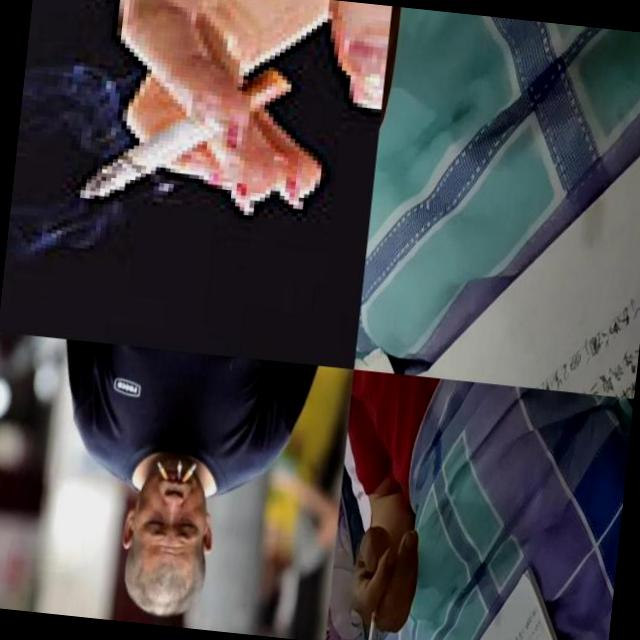smoke: (73, 48, 294, 221), (367, 594, 380, 640), (182, 461, 197, 484), (154, 460, 170, 481), (176, 460, 182, 480)
